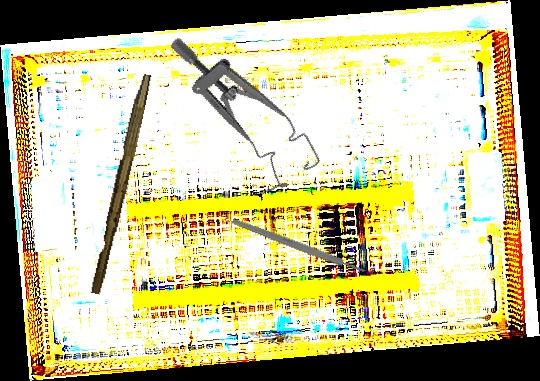Scalpel Handle: (89, 72, 152, 296), (231, 217, 366, 275)
Speculum: (167, 6, 324, 204)
